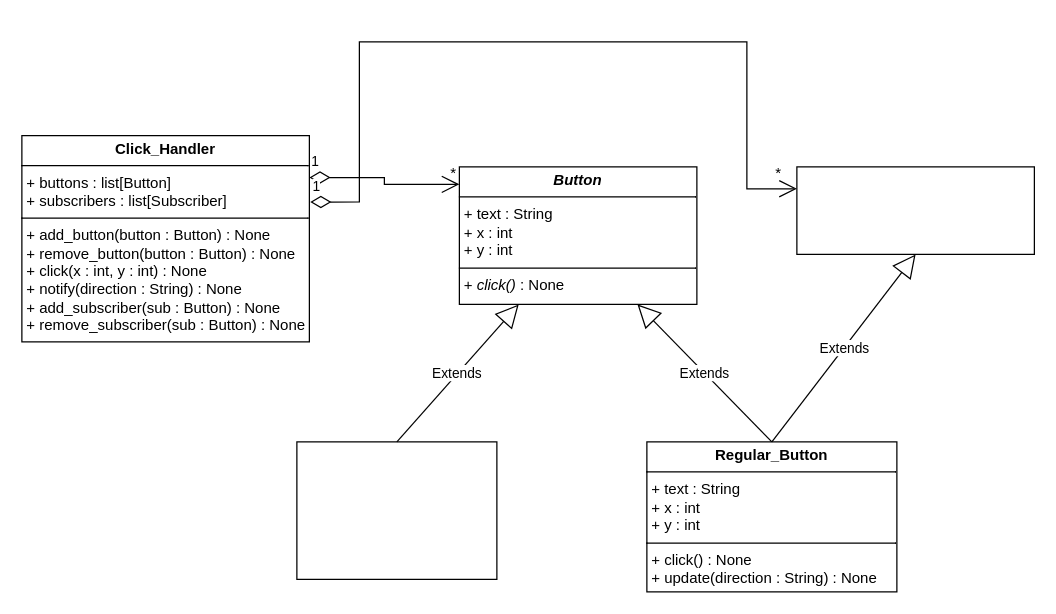
Image size: 1056x614. Some labels were removed from this diagram. The centre of each missing label's shape, as x and y in pixels:
<<Interface>> Subsciber + update(direction : String) : None: point 915,210
Control_Button + text : String + x : int + y : int + click() : None: point 396,510
